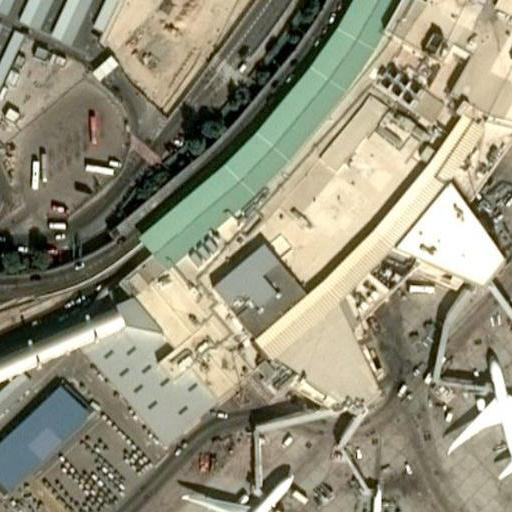Aircraft: (443, 357, 512, 479)
